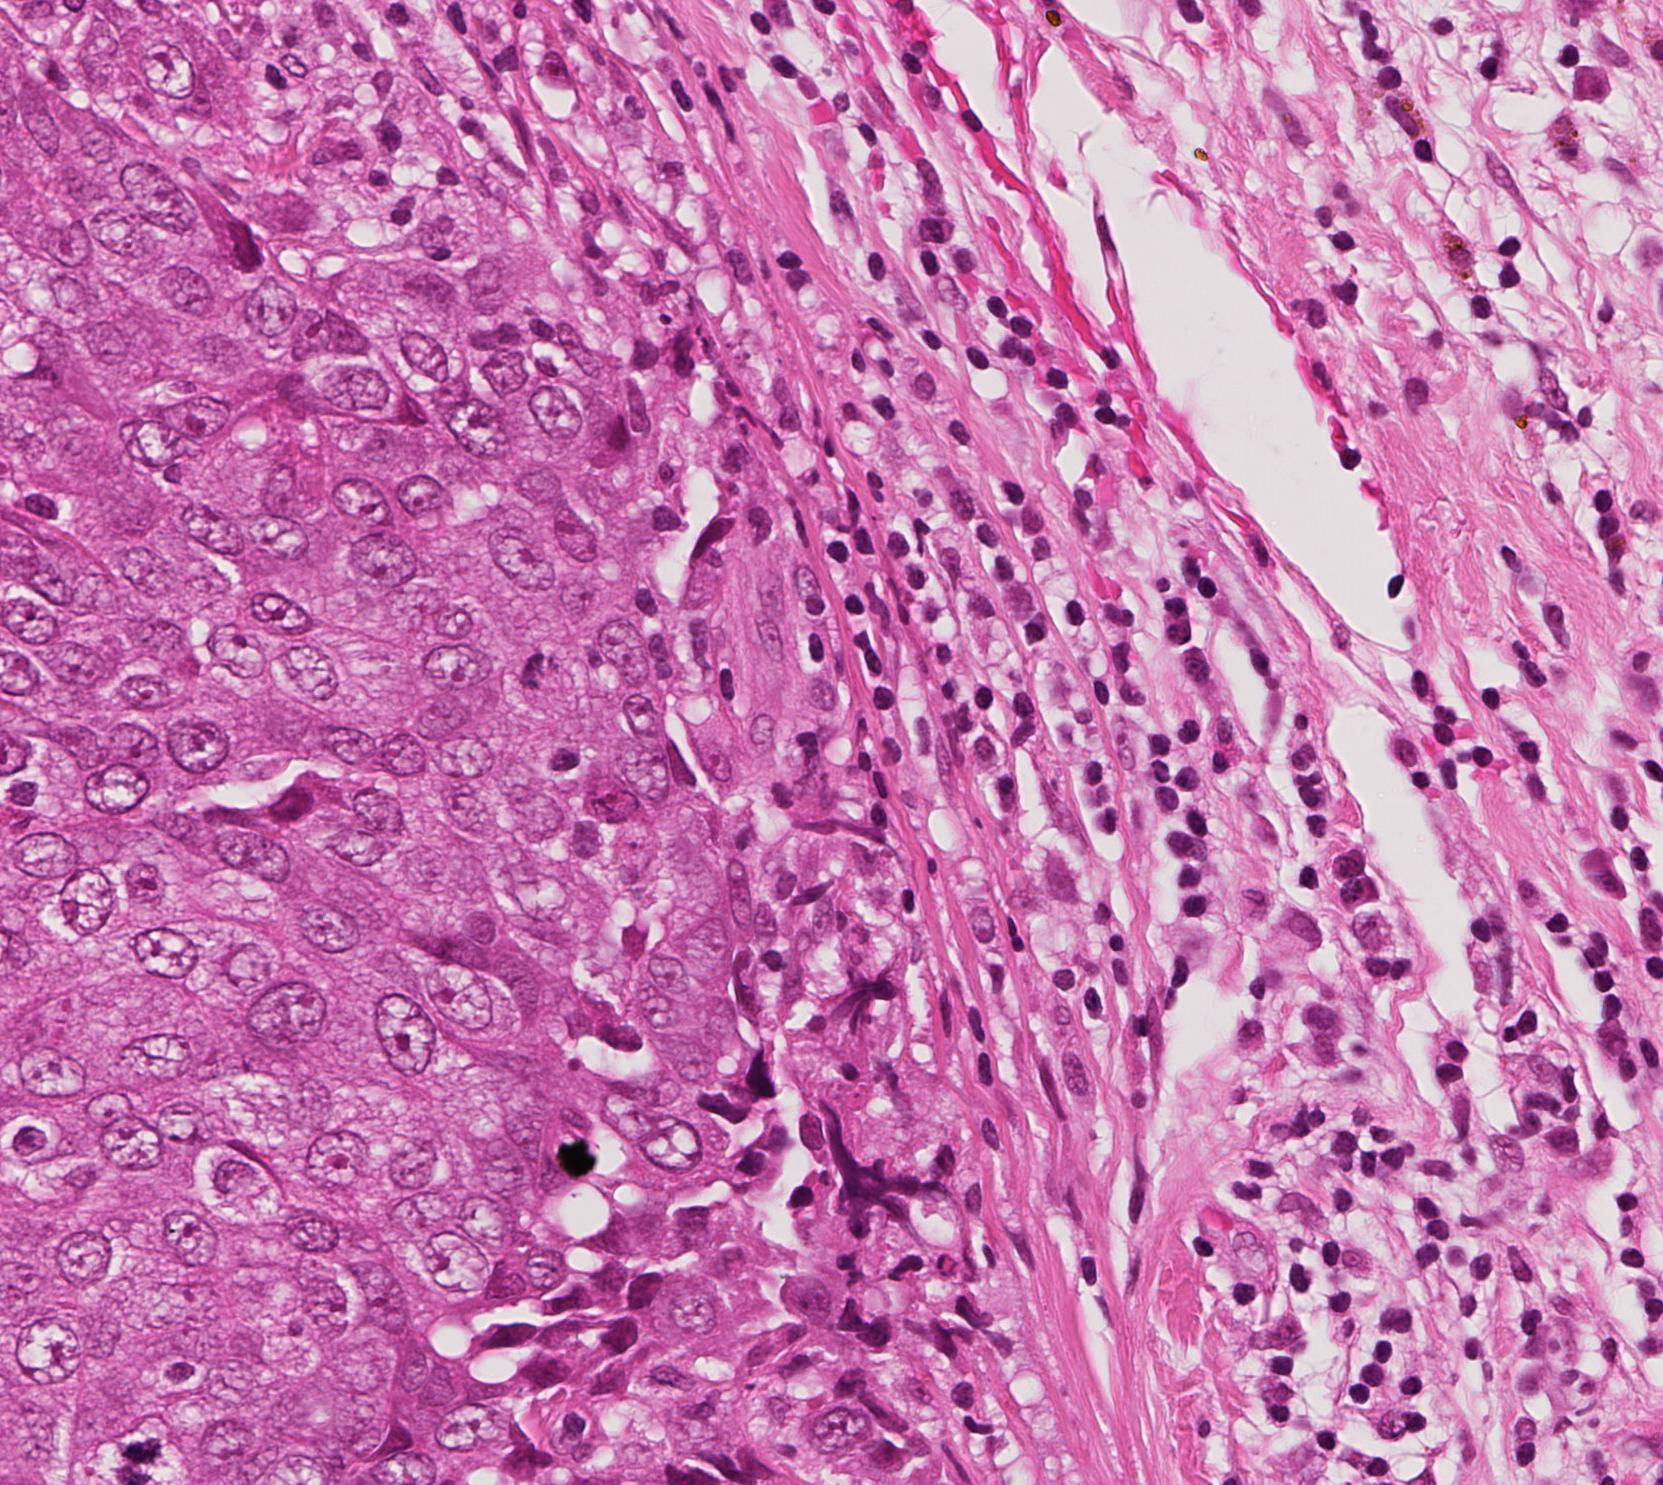mitosis: (508, 636, 568, 697), (105, 1419, 163, 1479)
